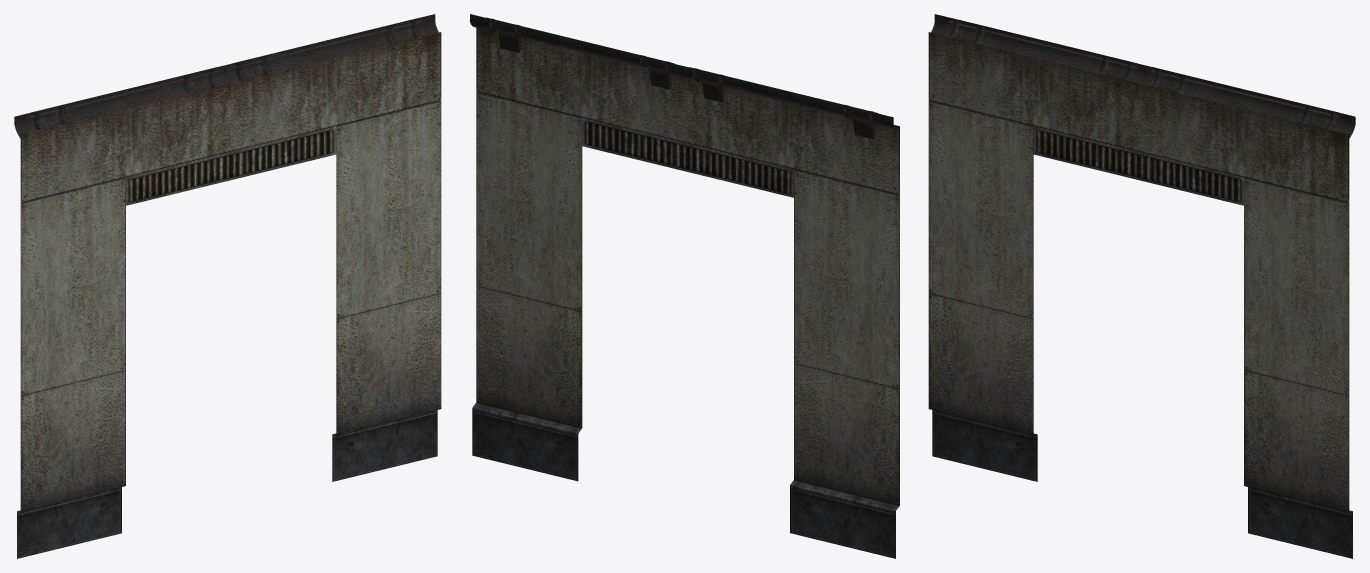
The model's file is lab_doorway_rusty.dae.
The picture shows the model from 3 angles, left to right: view 1: azimuth 30°, elevation 25°; view 2: azimuth 150°, elevation 25°; view 3: azimuth 330°, elevation 25°; orthographic projection.
Visible parts, largest first — view 1: lab_doorway; view 2: lab_doorway; view 3: lab_doorway.
Boxes of the visible parts, x1,y1,x2,y2 form: lab_doorway: [14, 14, 441, 558]; lab_doorway: [470, 14, 899, 558]; lab_doorway: [928, 14, 1355, 558].
Bounding box in the file's own units: 4 × 4 × 0.1056.
